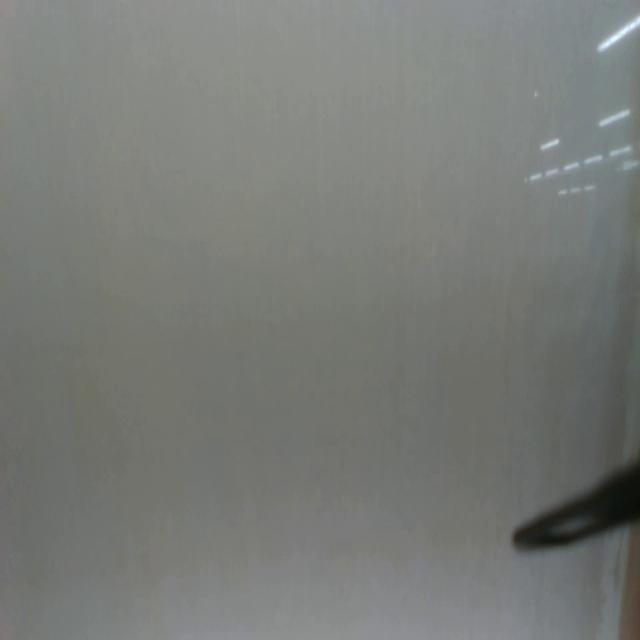crease: (314, 0, 326, 200), (233, 0, 247, 107)
